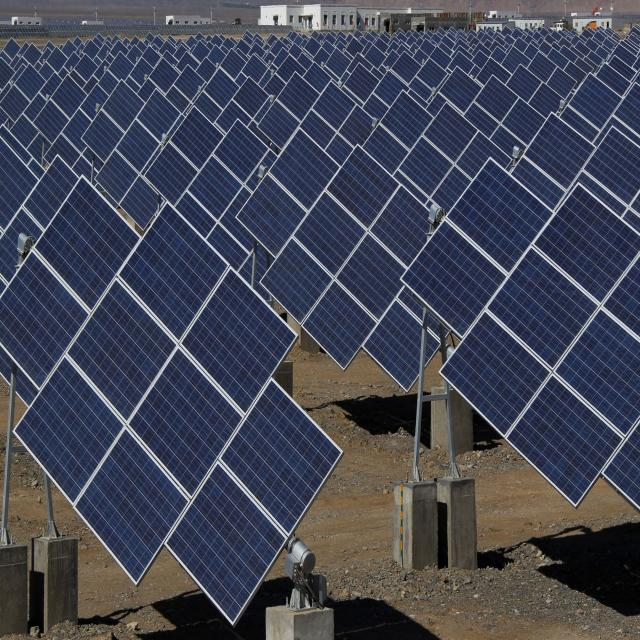clean-solar-panel: (0, 28, 640, 529), (0, 178, 339, 621)
